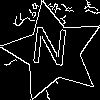N: (28, 26, 70, 76)
